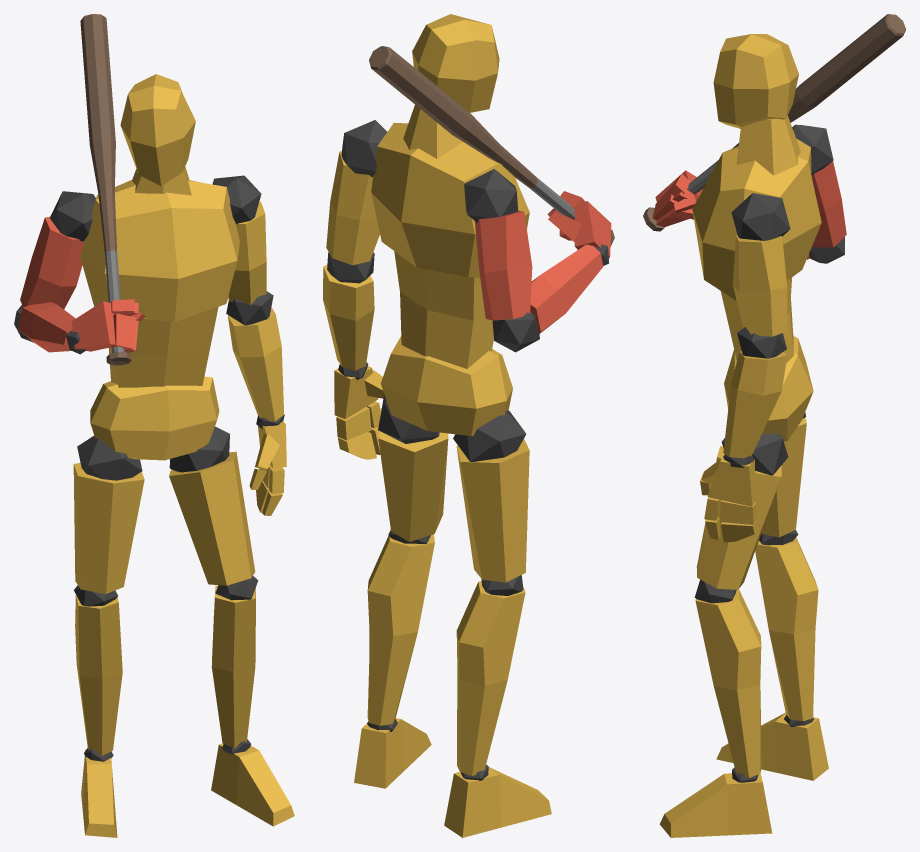
The model's file is Pose2.fbx.
3 renders of one model, left to right at view 1: azimuth 30°, elevation 25°; view 2: azimuth 150°, elevation 25°; view 3: azimuth 270°, elevation 25°, orthographic. The views are drawn at different scales.
Parts seen in each view (by area): view 1: Cube.001, Cube.003, Cube.013, Cube.014, Cylinder, Cube.002, Cube.012, Cube.004, Cube.010, Cube.006, Cube.015, Cube.009 (+15 smaller); view 2: Cube.001, Cube.003, Cube.012, Cube.010, Cube.004, Cube.014, Cube.002, Cube.013, Cylinder, Cube.009, Cube.016, Cube.008 (+15 smaller); view 3: Cube.001, Cube.010, Cube.012, Cube.002, Cube.015, Cube.008, Cube.006, Cylinder, Cube.013, Cube.016, Cube.003, Cube.005 (+12 smaller).
Boxes of the visible parts, x1,y1,x2,y2 form: Cube.001: [80, 180, 239, 321]; Cube.003: [90, 376, 219, 460]; Cube.013: [169, 451, 255, 585]; Cube.014: [73, 463, 144, 593]; Cylinder: [80, 14, 131, 365]; Cube.002: [120, 74, 195, 186]; Cube.012: [75, 591, 122, 755]; Cube.004: [108, 307, 218, 387]; Cube.010: [211, 585, 255, 748]; Cube.006: [228, 307, 284, 421]; Cube.015: [211, 743, 294, 826]; Cube.009: [20, 216, 84, 309]; Cube.001: [371, 122, 529, 277]; Cube.003: [380, 336, 512, 435]; Cube.012: [456, 581, 525, 775]; Cube.010: [367, 534, 434, 725]; Cube.004: [394, 251, 493, 368]; Cube.014: [456, 439, 529, 582]; Cube.002: [412, 14, 499, 112]; Cube.013: [378, 408, 448, 541]; Cylinder: [369, 46, 614, 246]; Cube.009: [475, 210, 532, 320]; Cube.016: [444, 767, 551, 837]; Cube.008: [326, 151, 379, 265]; Cube.001: [692, 138, 821, 300]; Cube.010: [695, 589, 761, 777]; Cube.012: [755, 537, 818, 721]; Cube.002: [713, 34, 798, 128]; Cube.015: [659, 773, 772, 837]; Cube.008: [732, 235, 787, 336]; Cube.006: [723, 351, 787, 458]; Cylinder: [643, 14, 905, 231]; Cube.013: [696, 446, 781, 589]; Cube.016: [716, 712, 828, 780]; Cube.003: [724, 336, 813, 441]; Cube.005: [736, 115, 800, 175].
Bounding box in the file's own units: 129 × 391 × 120.
